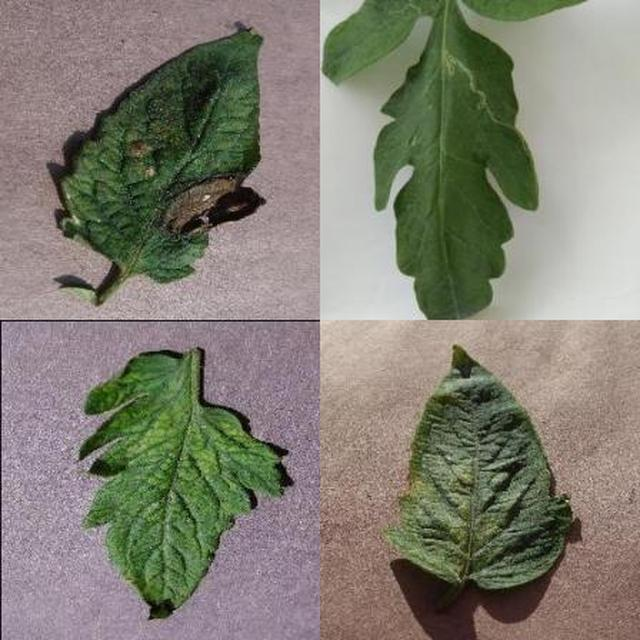Late Blight Leaf: (236, 218, 640, 640)
